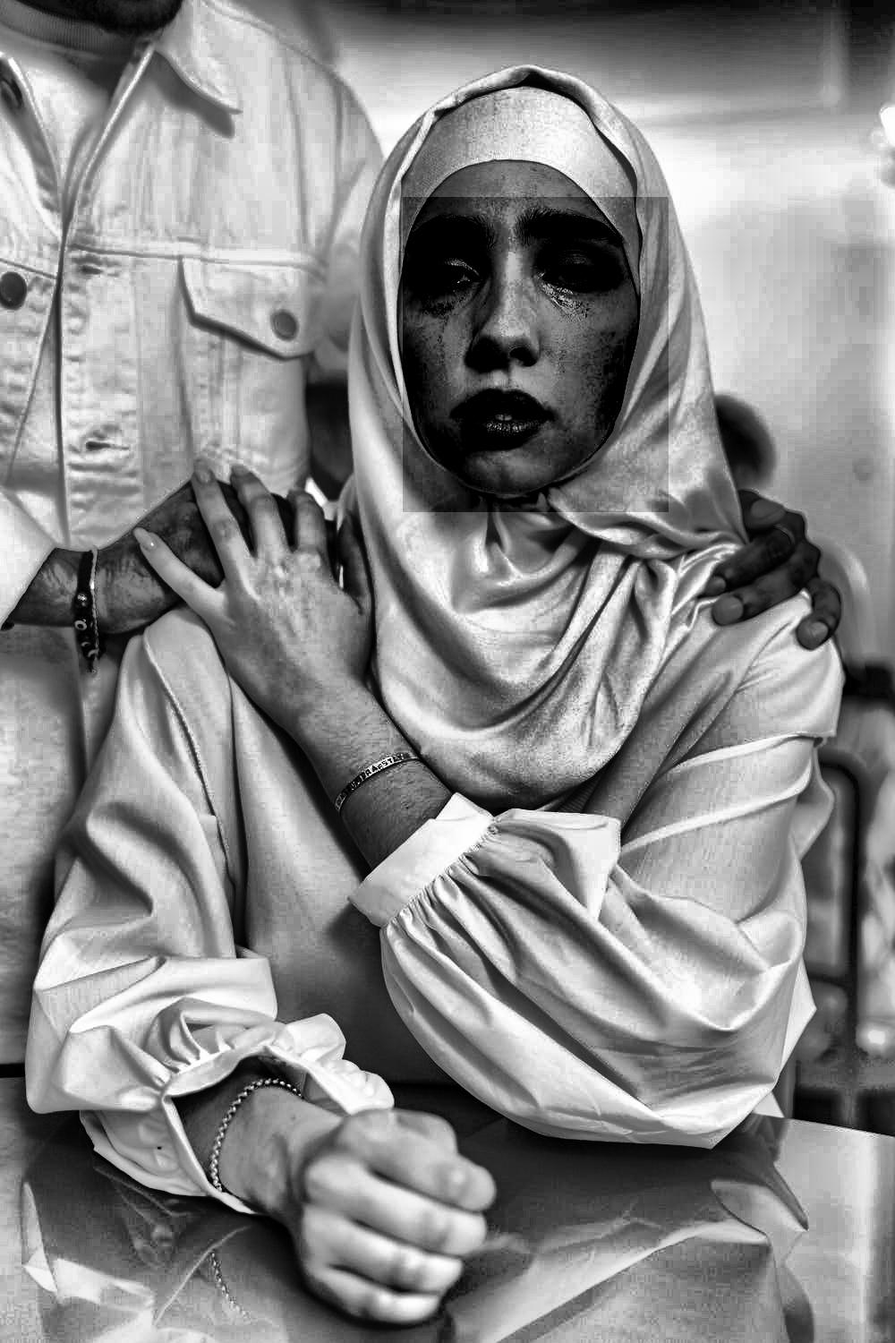sad: (403, 197, 669, 512)
